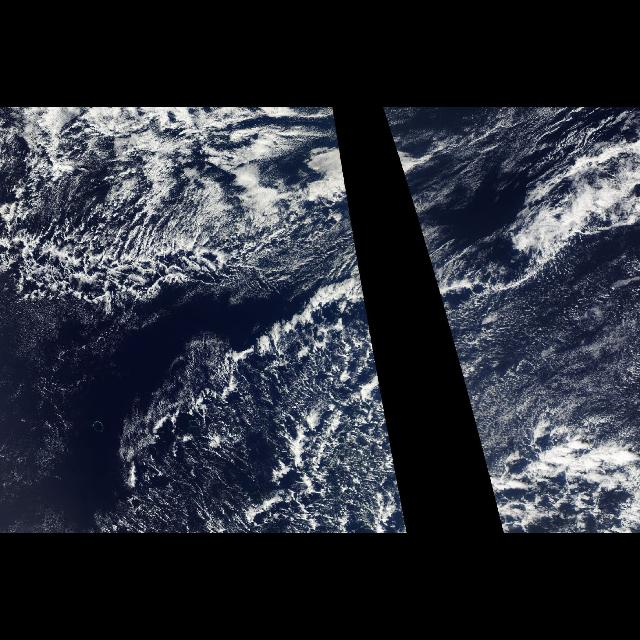Fish: (1, 185, 339, 328)
Gravel: (108, 296, 410, 530), (437, 296, 571, 530)
Sugar: (436, 296, 640, 446)
